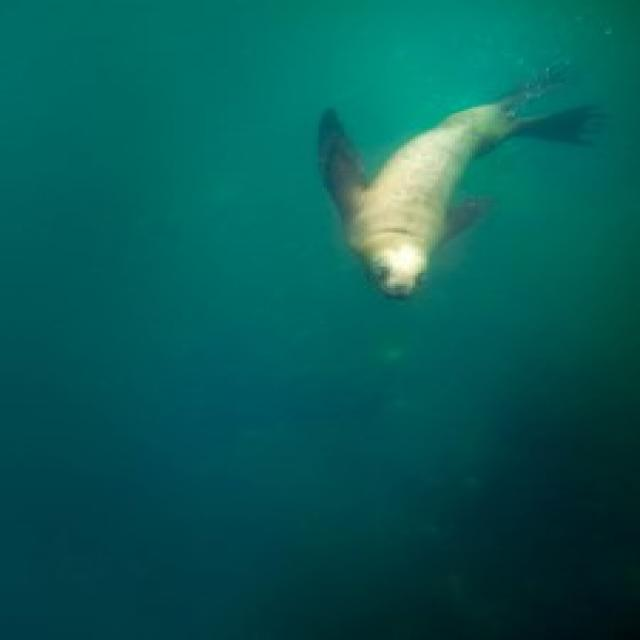Seal: (308, 65, 612, 316)
